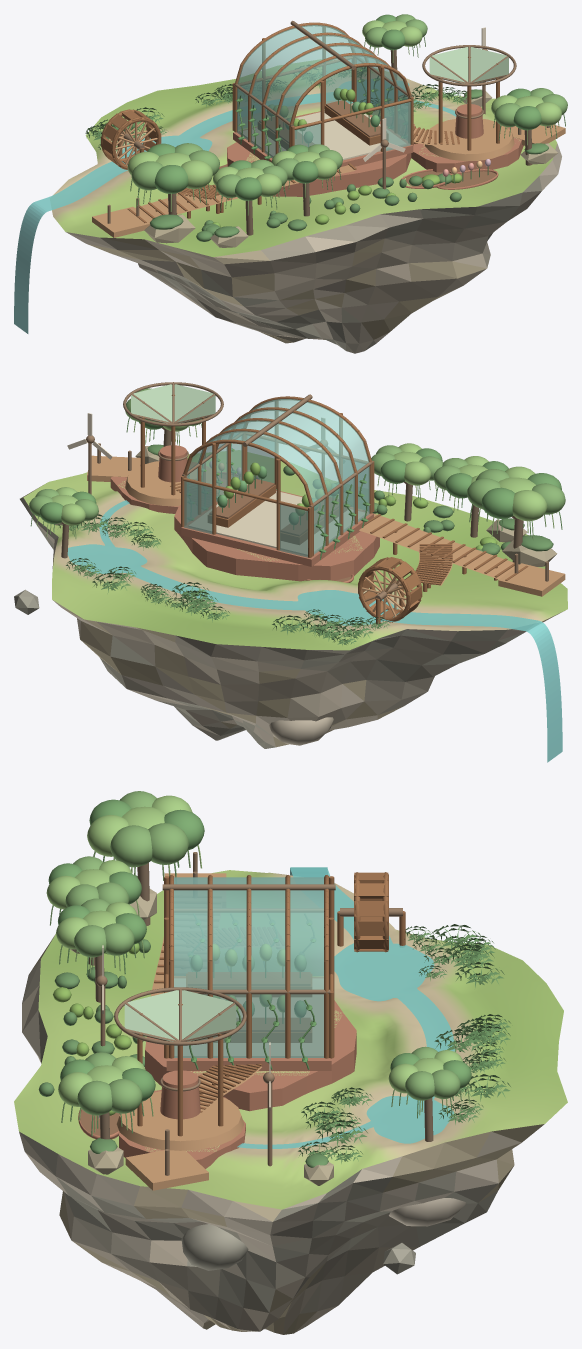
Rendered from verdant.glb.
The picture shows the model from 3 angles, top to bottom: view 1: azimuth 30°, elevation 25°; view 2: azimuth 150°, elevation 25°; view 3: azimuth 270°, elevation 25°; orthographic projection. The views are drawn at different scales.
Visible parts, largest first — view 1: Asymmetric landmass and terraces, NAV_verdant_terrain_461, Willow grove, fern banks and cultivated beds, Timber greenhouse and connected walkways, Rain harvest, waterwheel and wind mechanisms, Single connected water surface and fall, NAV_verdant_pavilion_deck_1056, NAV_verdant_bridge_landing_738, NAV_verdant_raised_walkway_657, NAV_verdant_greenhouse_floor_480, NAV_verdant_bridge_landing_741; view 2: Asymmetric landmass and terraces, NAV_verdant_terrain_461, Timber greenhouse and connected walkways, Willow grove, fern banks and cultivated beds, Single connected water surface and fall, Rain harvest, waterwheel and wind mechanisms, NAV_verdant_raised_walkway_657, NAV_verdant_greenhouse_floor_480, NAV_verdant_pavilion_deck_1056, NAV_verdant_bridge_landing_738, NAV_verdant_bridge_landing_741; view 3: Asymmetric landmass and terraces, NAV_verdant_terrain_461, Willow grove, fern banks and cultivated beds, Timber greenhouse and connected walkways, Rain harvest, waterwheel and wind mechanisms, Single connected water surface and fall, NAV_verdant_pavilion_deck_1056, NAV_verdant_bridge_landing_741, NAV_verdant_greenhouse_floor_480.
Boxes of the visible parts, left/top/right/bottom form: Asymmetric landmass and terraces: left=66, top=89, right=561, bottom=353; NAV_verdant_terrain_461: left=52, top=59, right=556, bottom=257; Willow grove, fern banks and cultivated beds: left=85, top=14, right=567, bottom=241; Timber greenhouse and connected walkways: left=107, top=20, right=549, bottom=223; Rain harvest, waterwheel and wind mechanisms: left=101, top=27, right=516, bottom=189; Single connected water surface and fall: left=14, top=79, right=456, bottom=333; NAV_verdant_pavilion_deck_1056: left=425, top=119, right=514, bottom=161; NAV_verdant_bridge_landing_738: left=92, top=206, right=151, bottom=237; NAV_verdant_raised_walkway_657: left=135, top=165, right=355, bottom=219; NAV_verdant_greenhouse_floor_480: left=233, top=103, right=413, bottom=166; NAV_verdant_bridge_landing_741: left=509, top=124, right=565, bottom=145; Asymmetric landmass and terraces: left=14, top=444, right=561, bottom=748; NAV_verdant_terrain_461: left=23, top=450, right=567, bottom=650; Timber greenhouse and connected walkways: left=97, top=394, right=548, bottom=591; Willow grove, fern banks and cultivated beds: left=29, top=388, right=565, bottom=645; Single connected water surface and fall: left=67, top=500, right=562, bottom=762; Rain harvest, waterwheel and wind mechanisms: left=67, top=382, right=422, bottom=624; NAV_verdant_raised_walkway_657: left=350, top=507, right=519, bottom=579; NAV_verdant_greenhouse_floor_480: left=181, top=490, right=373, bottom=566; NAV_verdant_pavilion_deck_1056: left=125, top=461, right=221, bottom=506; NAV_verdant_bridge_landing_738: left=498, top=563, right=565, bottom=596; NAV_verdant_bridge_landing_741: left=87, top=455, right=140, bottom=481; Asymmetric landmass and terraces: left=19, top=875, right=544, bottom=1334; NAV_verdant_terrain_461: left=14, top=870, right=567, bottom=1209; Willow grove, fern banks and cultivated beds: left=38, top=791, right=510, bottom=1163; Timber greenhouse and connected walkways: left=152, top=852, right=335, bottom=1175; Rain harvest, waterwheel and wind mechanisms: left=96, top=872, right=405, bottom=1166; Single connected water surface and fall: left=237, top=867, right=454, bottom=1148; NAV_verdant_pavilion_deck_1056: left=116, top=1091, right=244, bottom=1150; NAV_verdant_bridge_landing_741: left=125, top=1150, right=208, bottom=1190; NAV_verdant_greenhouse_floor_480: left=166, top=977, right=331, bottom=1070.
Size of the model in its own units: 14 by 7.92 by 9.28.
